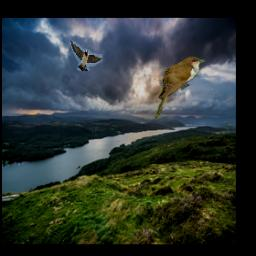Cuckoo: (155, 57, 206, 120)
Swallow: (69, 39, 102, 72)
